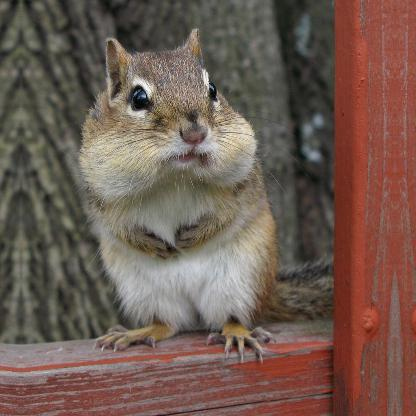Squirrel: (67, 24, 341, 372)
